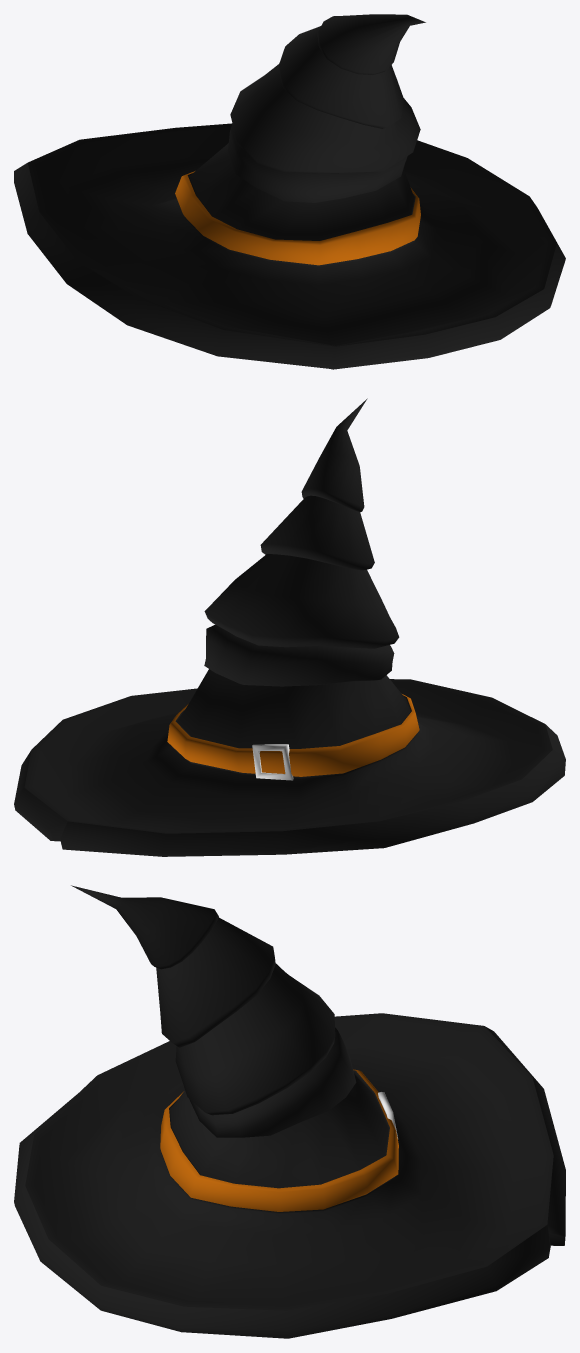
File: witchhat_basic.glb
3 renders of one model, top to bottom at view 1: azimuth 30°, elevation 25°; view 2: azimuth 150°, elevation 25°; view 3: azimuth 270°, elevation 25°, orthographic. The views are drawn at different scales.
Parts seen in each view (by area): view 1: 0.138, 1.082; view 2: 0.138, 1.082, 2.045; view 3: 0.138, 1.082.
Boxes of the visible parts, x1,y1,x2,y2 form: 0.138: [14, 14, 565, 369]; 1.082: [175, 171, 420, 265]; 0.138: [14, 398, 565, 856]; 1.082: [167, 694, 419, 776]; 2.045: [252, 744, 293, 780]; 0.138: [14, 885, 565, 1338]; 1.082: [160, 1069, 398, 1211].
Bounding box in the file's own units: 0.7413 × 0.4917 × 0.6964.
